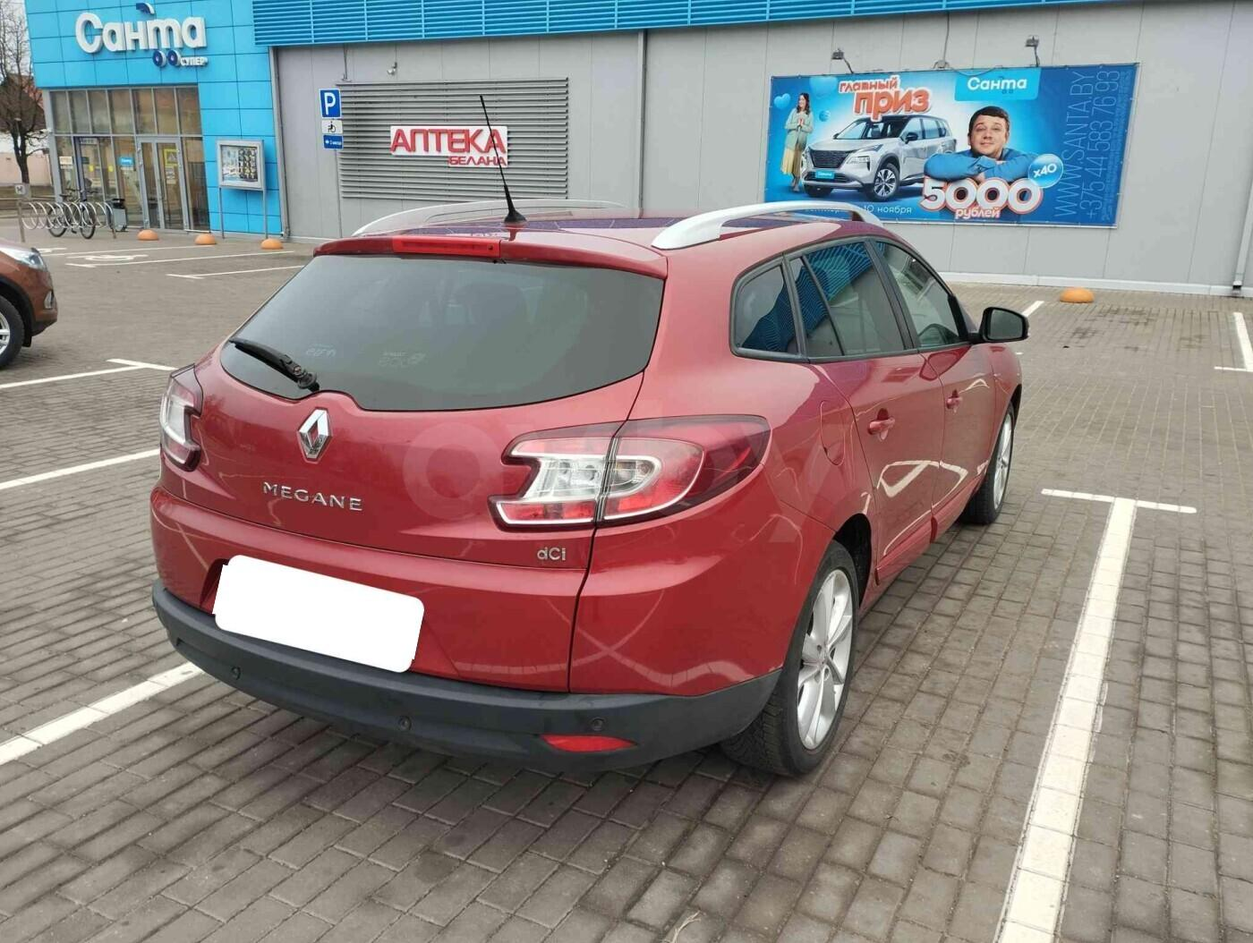Megane_2014-2016: (138, 190, 1038, 781)
